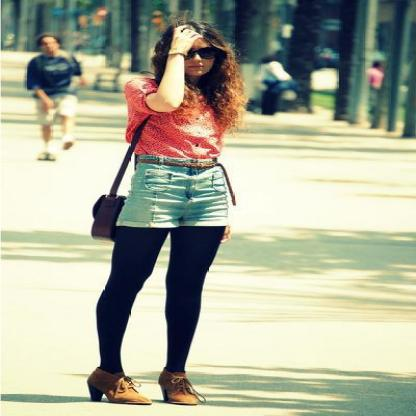bag: (92, 124, 161, 240)
shirt: (120, 74, 220, 158)
shoe: (87, 358, 211, 405)
shorts: (115, 141, 235, 227)
sunglass: (187, 42, 226, 62)
